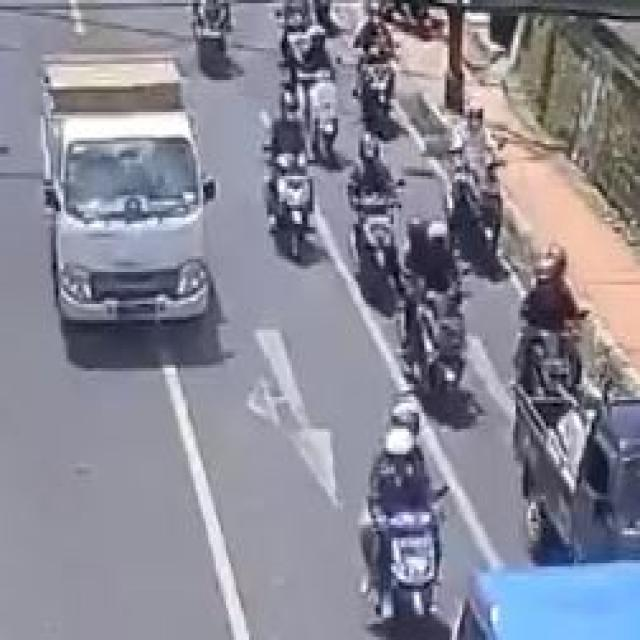car: (42, 54, 216, 347)
motorbike: (346, 379, 448, 637), (404, 219, 480, 392), (520, 246, 589, 394), (453, 88, 508, 268), (258, 90, 313, 264), (349, 138, 400, 315), (345, 3, 412, 136), (194, 3, 228, 64)
